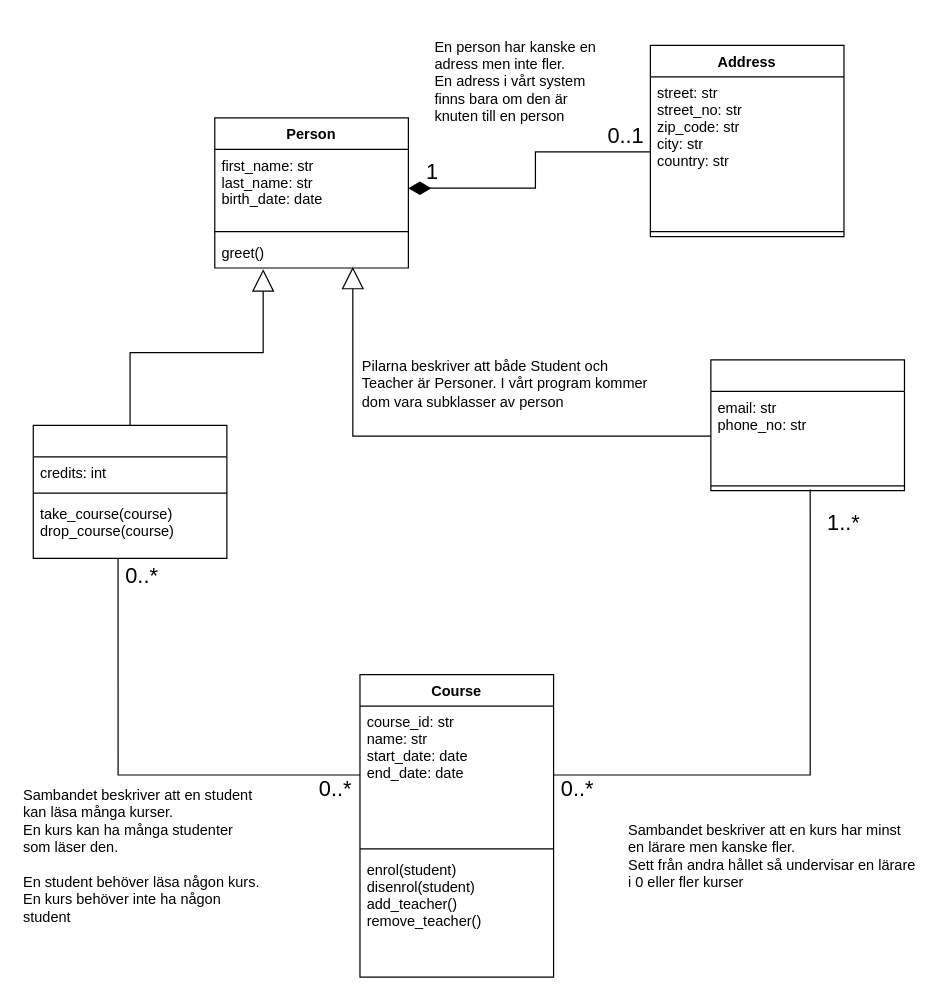
This 937x1001 diagram has some shape labels left out. Here are the shapes that lost their labels. From the top down, the box of each, then its label:
(710, 359, 904, 491): Teacher
(32, 424, 227, 558): Student
